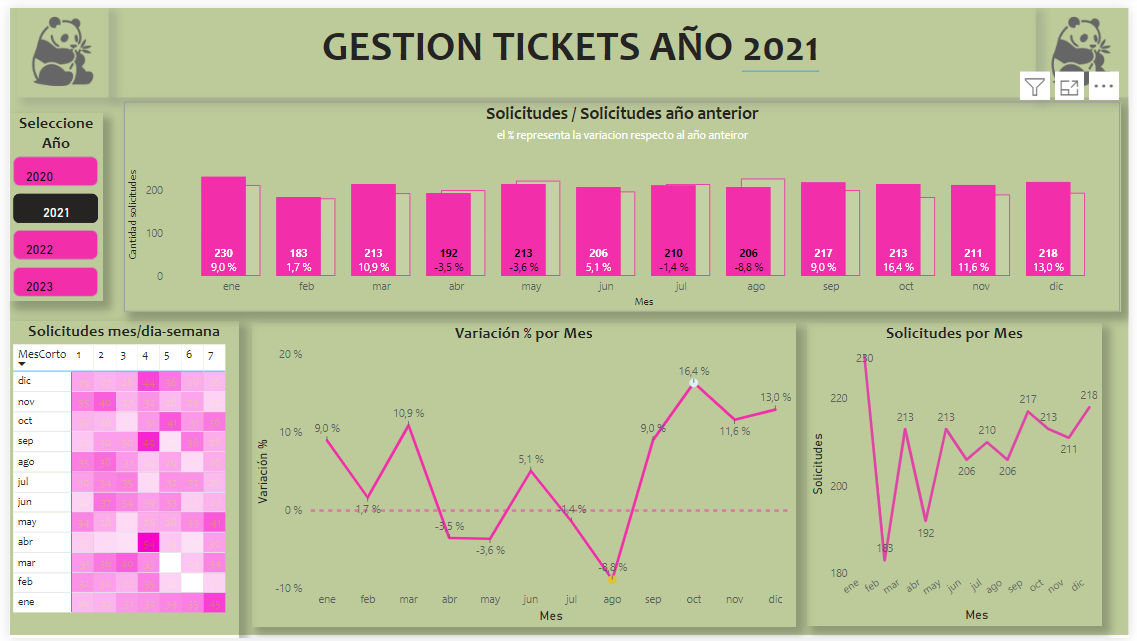

This screenshot's page, from the dashboard's own definition file:
{"tool":"powerbi","page":{"name":"Página 1","canvas":[1280,720],"ordinal":0},"visuals":[{"type":"advancedSlicerVisual","title":"Seleccione Año","fields":{"Values":["Fechas.Año"]},"box":[0,120,107.5,215],"z":0},{"type":"clusteredColumnChart","title":"Solicitudes / Solicitudes año anterior","fields":{"Category":["Fechas.MesCorto"],"Y":["Medidas.Solicitudes","Medidas.Solicitudes PY'Año anterior'"]},"box":[131.5,107.4,1138.9,240.1],"z":1000},{"type":"lineChart","title":"Variación % por Mes","fields":{"Category":["Fechas.MesCorto"],"Y":["Medidas.Variación %"]},"box":[277.5,359.5,622.5,347.5],"z":2000},{"type":"pivotTable","title":"Solicitudes mes/dia-semana","fields":{"Rows":["Fechas.MesCorto"],"Values":["Medidas.Solicitudes"],"Columns":["Fechas.DíaSemana"]},"box":[0,357.1,263,363.1],"z":3000},{"type":"textbox","box":[131.5,8.4,1020.6,90.5],"z":4000},{"type":"lineChart","title":"Solicitudes por Mes","fields":{"Category":["Fechas.MesCorto"],"Y":["Medidas.Solicitudes"]},"box":[912.1,359.5,337.8,346.2],"z":5000}]}

Visuals, with their boxes in screenshot pixels (x1, y1, x2, y2), scaled from the page's 1280x720 canvas onto the 1137x641 screenshot:
"Seleccione Año" advancedSlicerVisual: <box>0,107,95,298</box>
"Solicitudes / Solicitudes año anterior" clusteredColumnChart: <box>117,96,1128,309</box>
"Variación % por Mes" lineChart: <box>246,320,799,629</box>
"Solicitudes mes/dia-semana" pivotTable: <box>0,318,234,640</box>
textbox: <box>117,7,1023,88</box>
"Solicitudes por Mes" lineChart: <box>810,320,1110,628</box>
